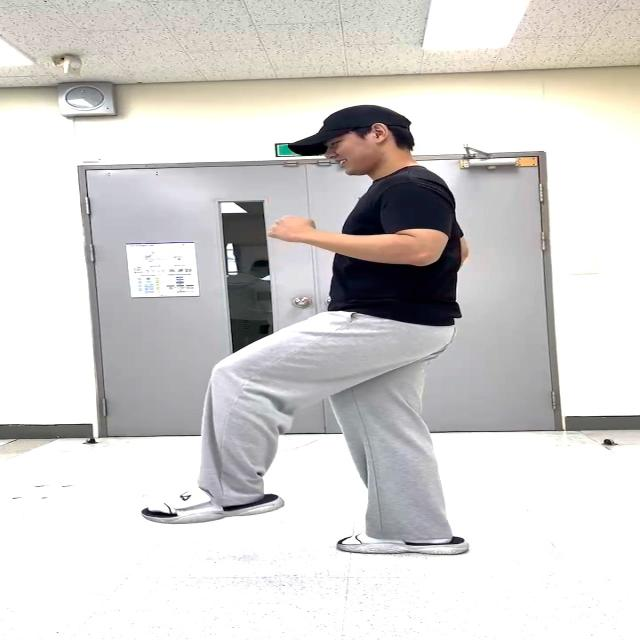leg: (147, 324, 380, 562)
